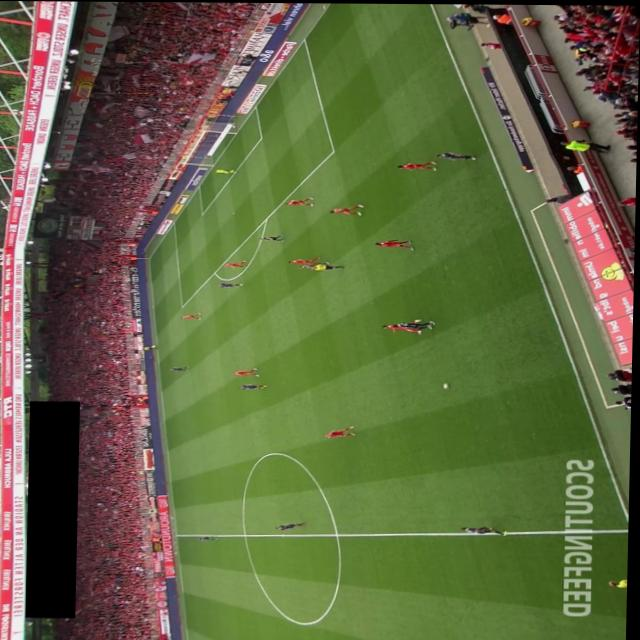goalkeeper: (214, 168, 237, 173)
player: (330, 202, 365, 215), (398, 159, 439, 170), (376, 238, 416, 249), (397, 318, 436, 329), (383, 322, 424, 332), (327, 424, 358, 437), (437, 151, 477, 160), (462, 525, 506, 533), (289, 254, 324, 263), (277, 520, 309, 529), (299, 260, 333, 268), (235, 366, 262, 376), (286, 196, 315, 205), (260, 233, 286, 241), (225, 259, 250, 267), (240, 382, 268, 389), (181, 312, 204, 318), (170, 366, 192, 371), (219, 282, 245, 286), (199, 536, 221, 540)
referee: (311, 262, 345, 270), (611, 577, 629, 586), (144, 344, 161, 350)
